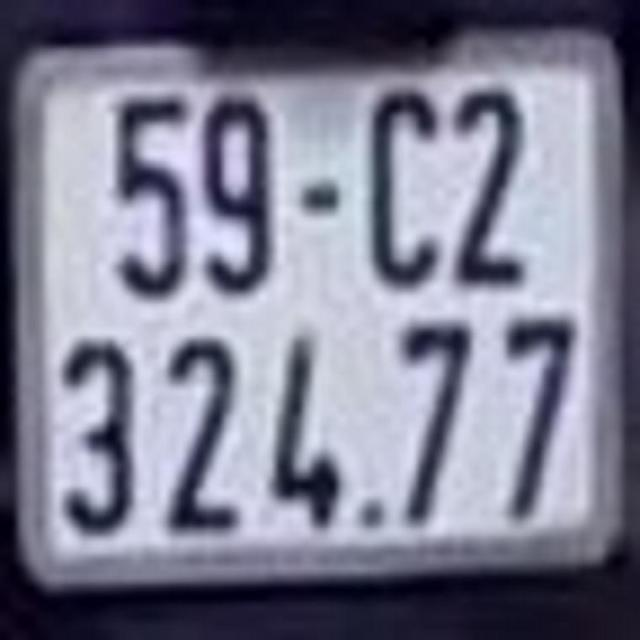2: (453, 89, 534, 281), (163, 341, 244, 528)
3: (54, 338, 135, 527)
4: (270, 331, 349, 527)
5: (112, 100, 188, 294)
7: (494, 316, 573, 524), (397, 322, 462, 520)
9: (200, 100, 274, 292)
C: (366, 90, 446, 280)
